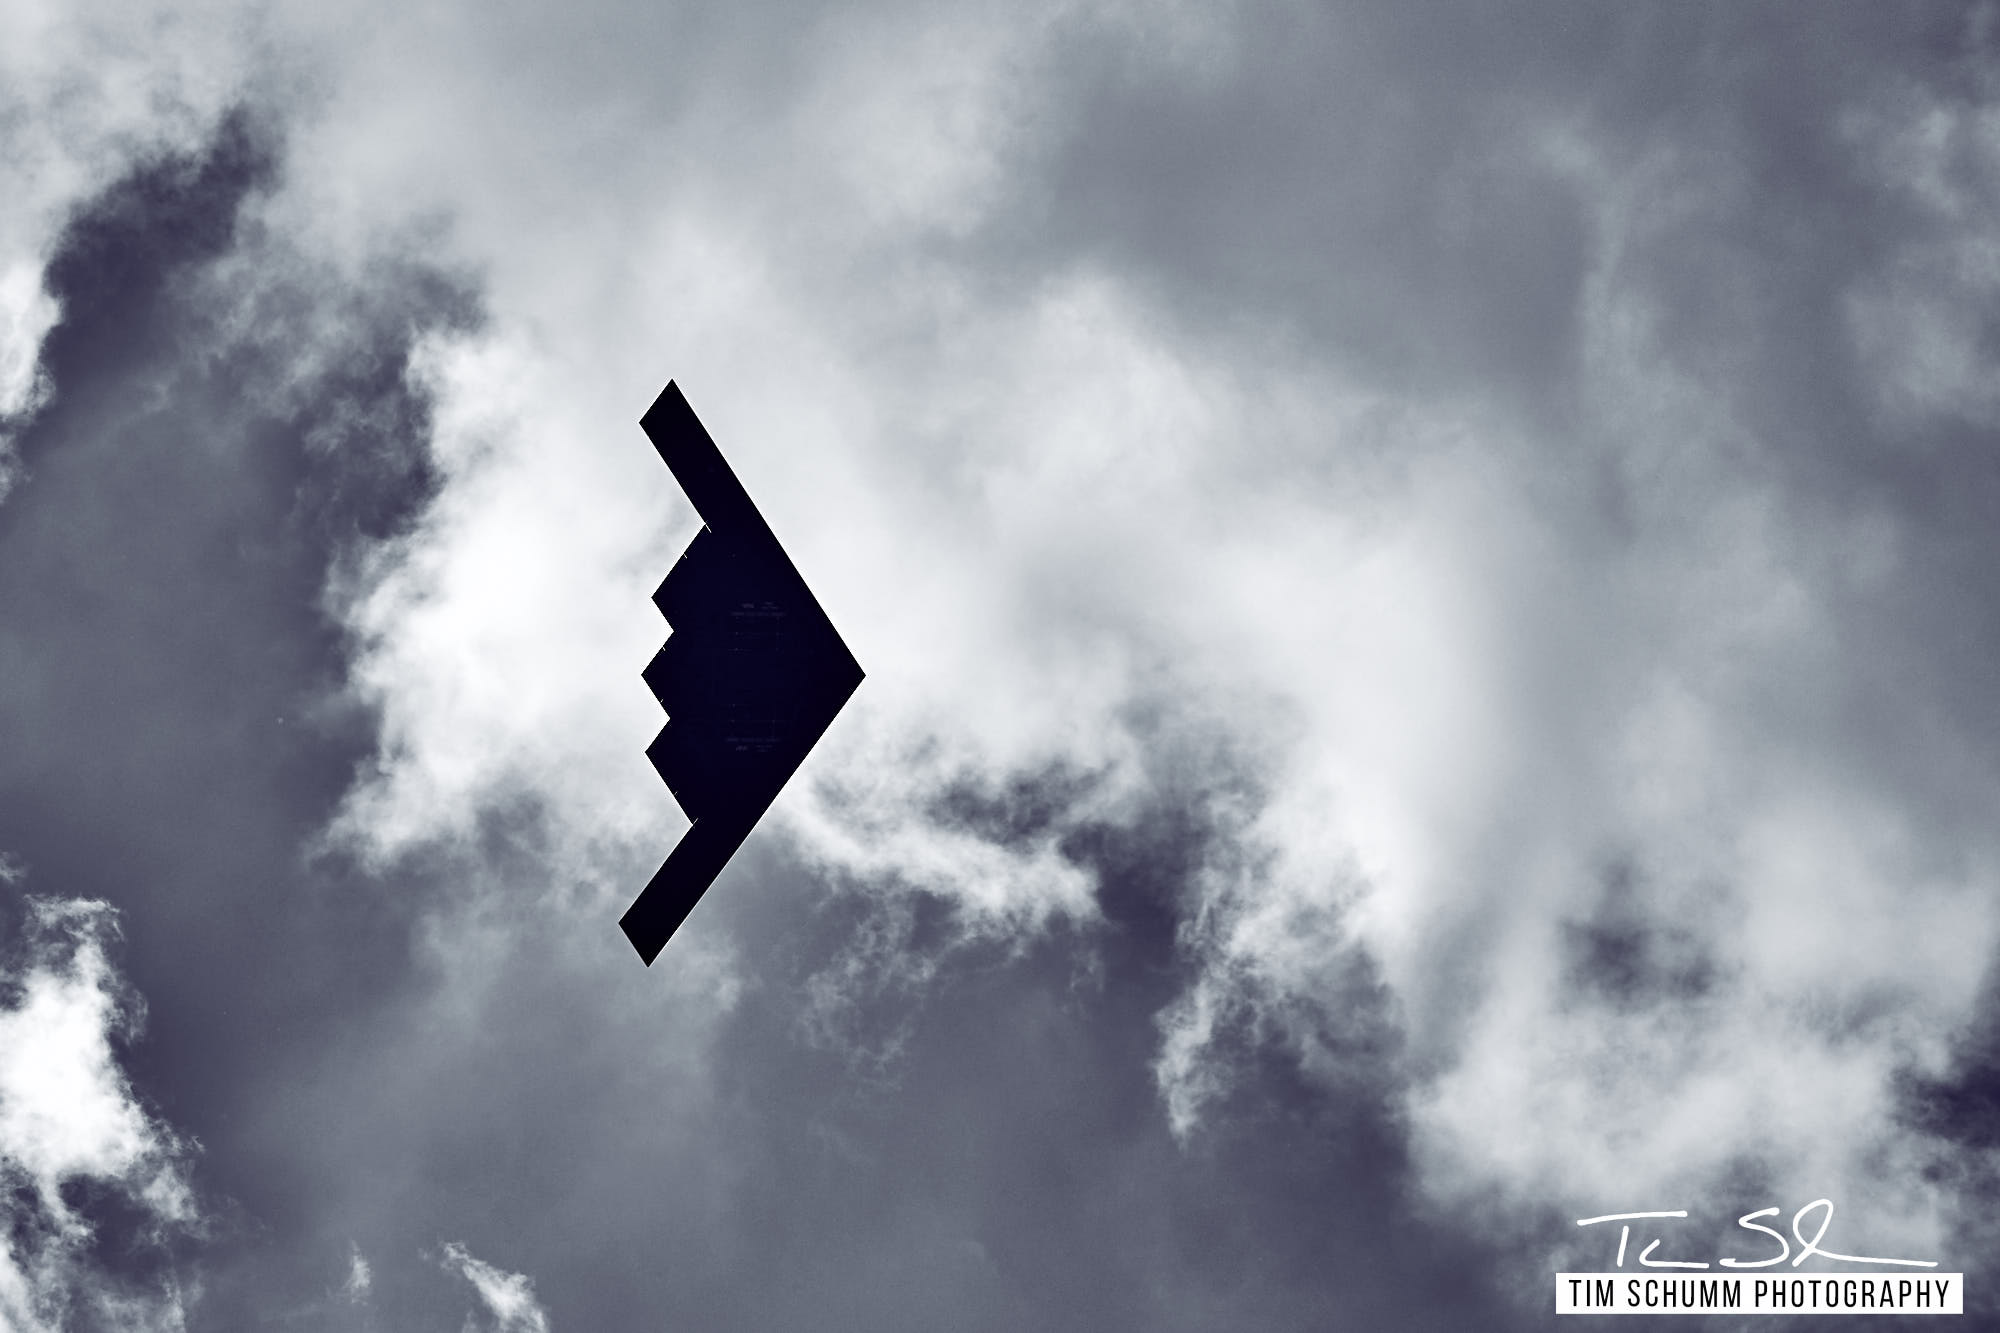B2: (617, 376, 867, 969)
